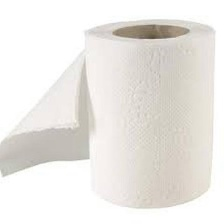tissue: (0, 12, 222, 214)
